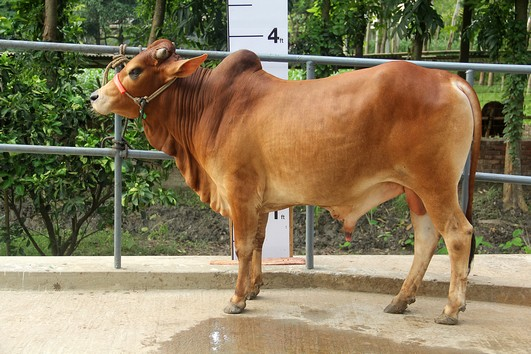cow: (84, 32, 485, 329)
